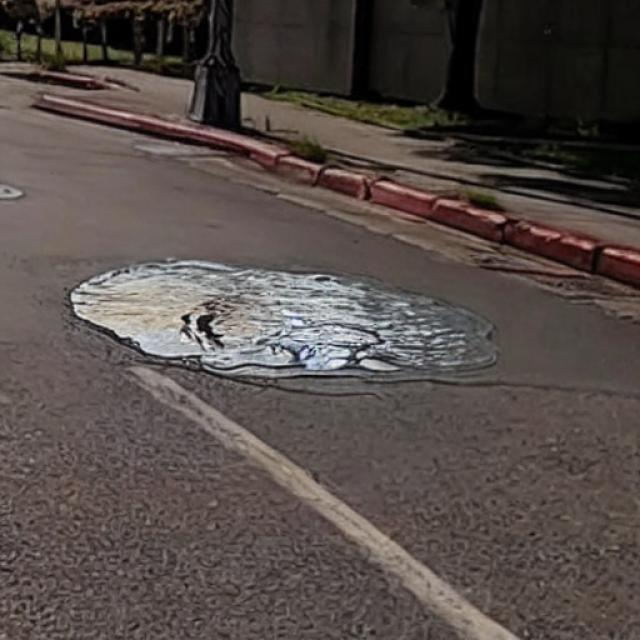puddle: (71, 261, 498, 377)
